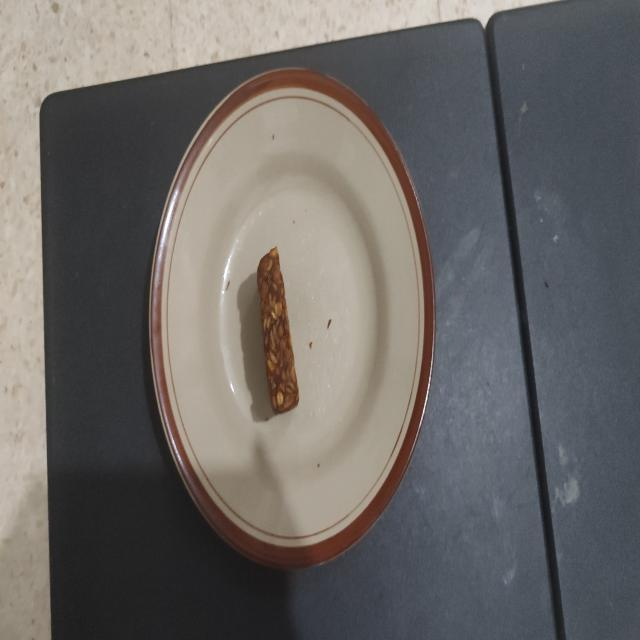tempe_goreng: (257, 246, 299, 412)
